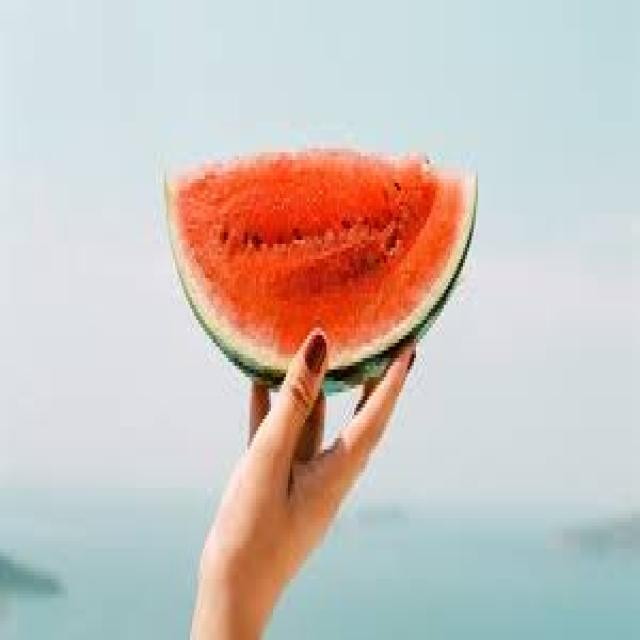watermelon: (162, 141, 478, 392)
